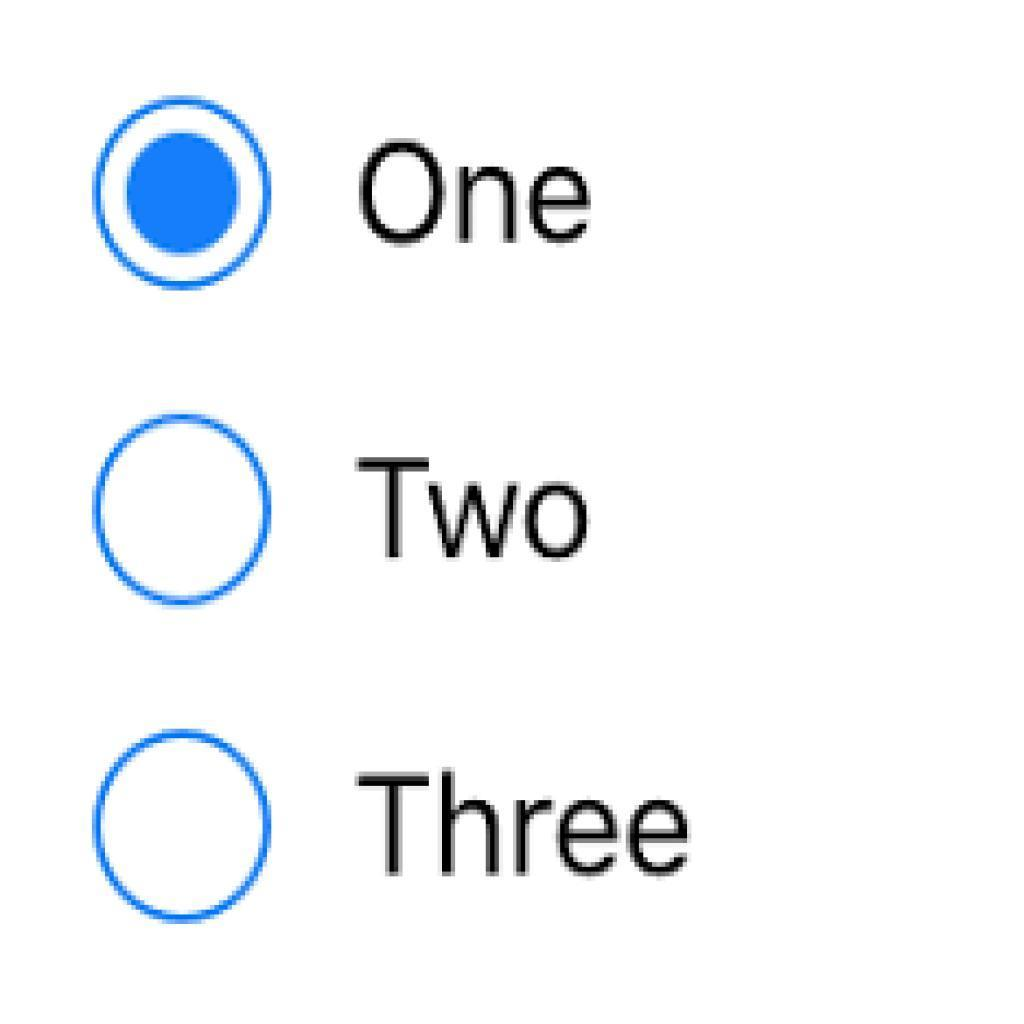label: (350, 766, 693, 885), (352, 127, 603, 260), (346, 450, 598, 572)
radio: (88, 727, 275, 927), (89, 93, 274, 293), (89, 412, 274, 610)
